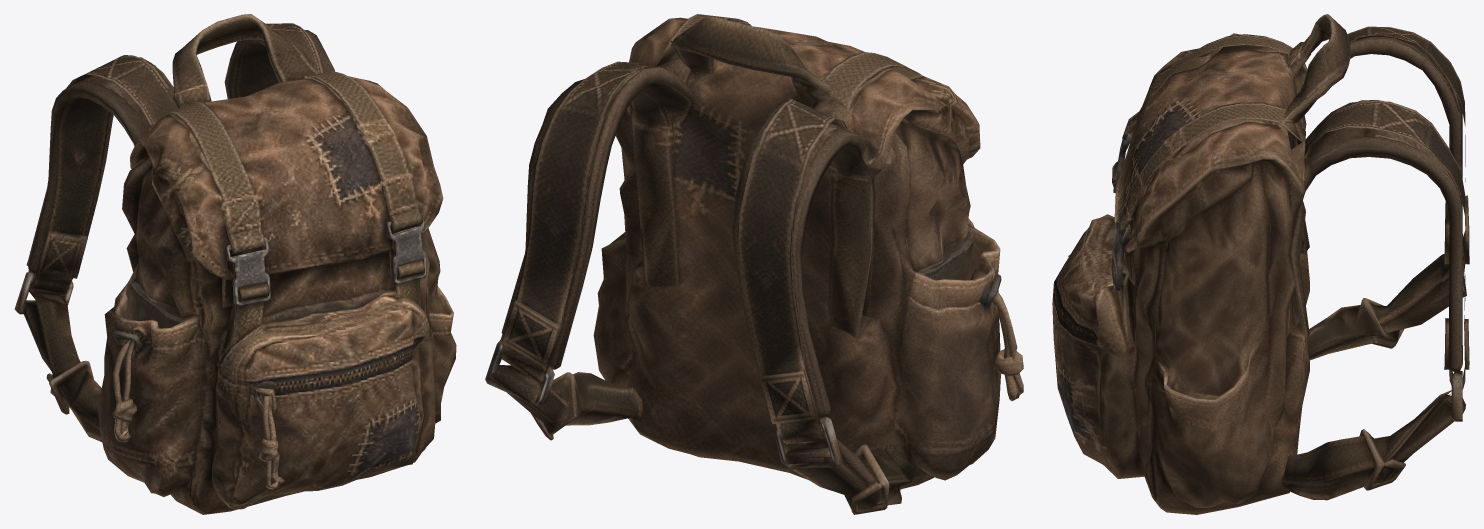
The model's file is backpack_c.glb.
The picture shows the model from 3 angles, left to right: view 1: azimuth 30°, elevation 25°; view 2: azimuth 150°, elevation 25°; view 3: azimuth 270°, elevation 25°; orthographic projection. The views are drawn at different scales.
Size of the model in its own units: 0.8296 by 0.9526 by 0.8101.
1 material, 1 textured.
